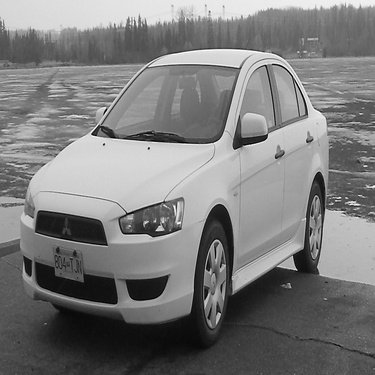car: (16, 37, 331, 352)
